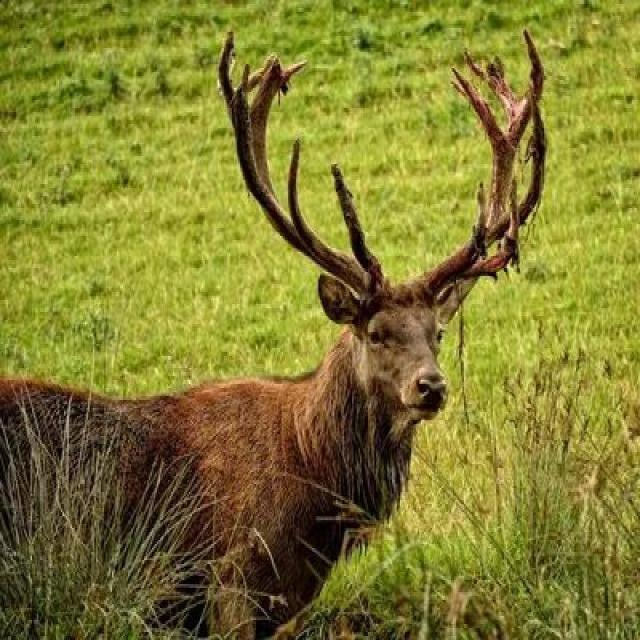deer: (42, 7, 561, 614)
